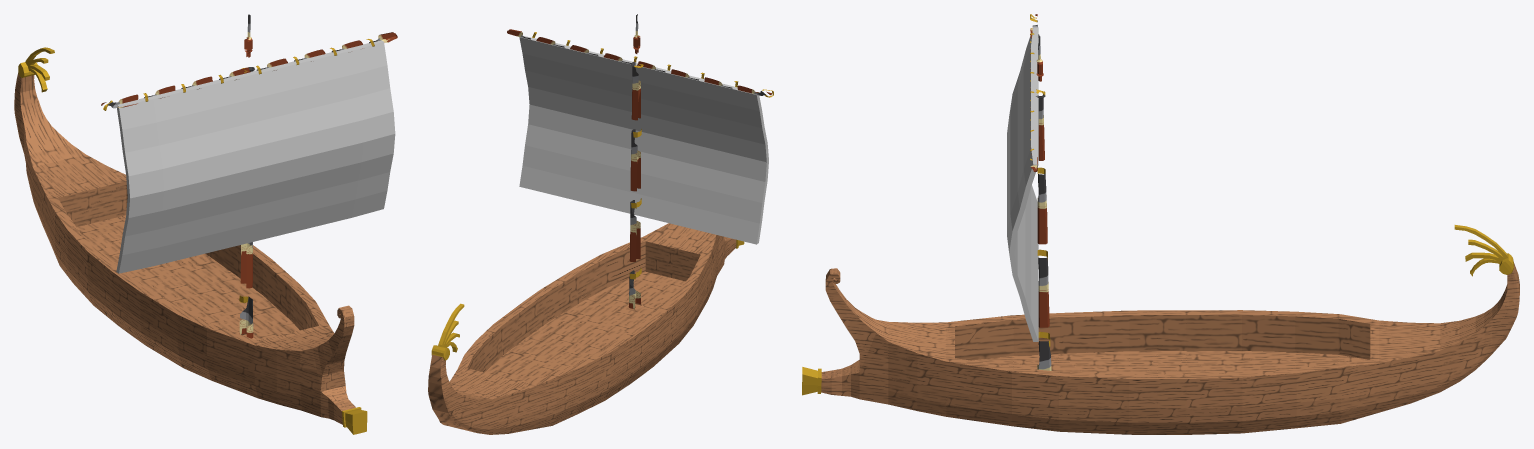
The model's file is TrirèmeFinal.fbx.
3 views of the same model, side by side, from view 1: azimuth 30°, elevation 25°; view 2: azimuth 150°, elevation 25°; view 3: azimuth 270°, elevation 25° (orthographic). The views are drawn at different scales.
Visible parts, largest first — view 1: Cube.001, Cube, Cube.003, Cube.002, Cube.005, Cube.004; view 2: Cube.001, Cube, Cube.002, Cube.003, Cube.005; view 3: Cube, Cube.001, Cube.002, Cube.005.
Part boxes in pixels (x1,y1,x2,y2): Cube.001: (116,40,395,273); Cube: (14,73,355,424); Cube.003: (101,32,397,110); Cube.002: (239,14,254,338); Cube.005: (18,47,54,92); Cube.004: (342,407,367,434); Cube.001: (519,36,768,244); Cube: (428,223,736,434); Cube.002: (628,14,643,309); Cube.003: (507,29,773,97); Cube.005: (431,303,464,360); Cube: (821,263,1519,434); Cube.001: (1007,27,1038,341); Cube.002: (1036,34,1051,370); Cube.005: (1454,225,1513,276).
Bounding box in the file's own units: 527 × 595 × 1048.
